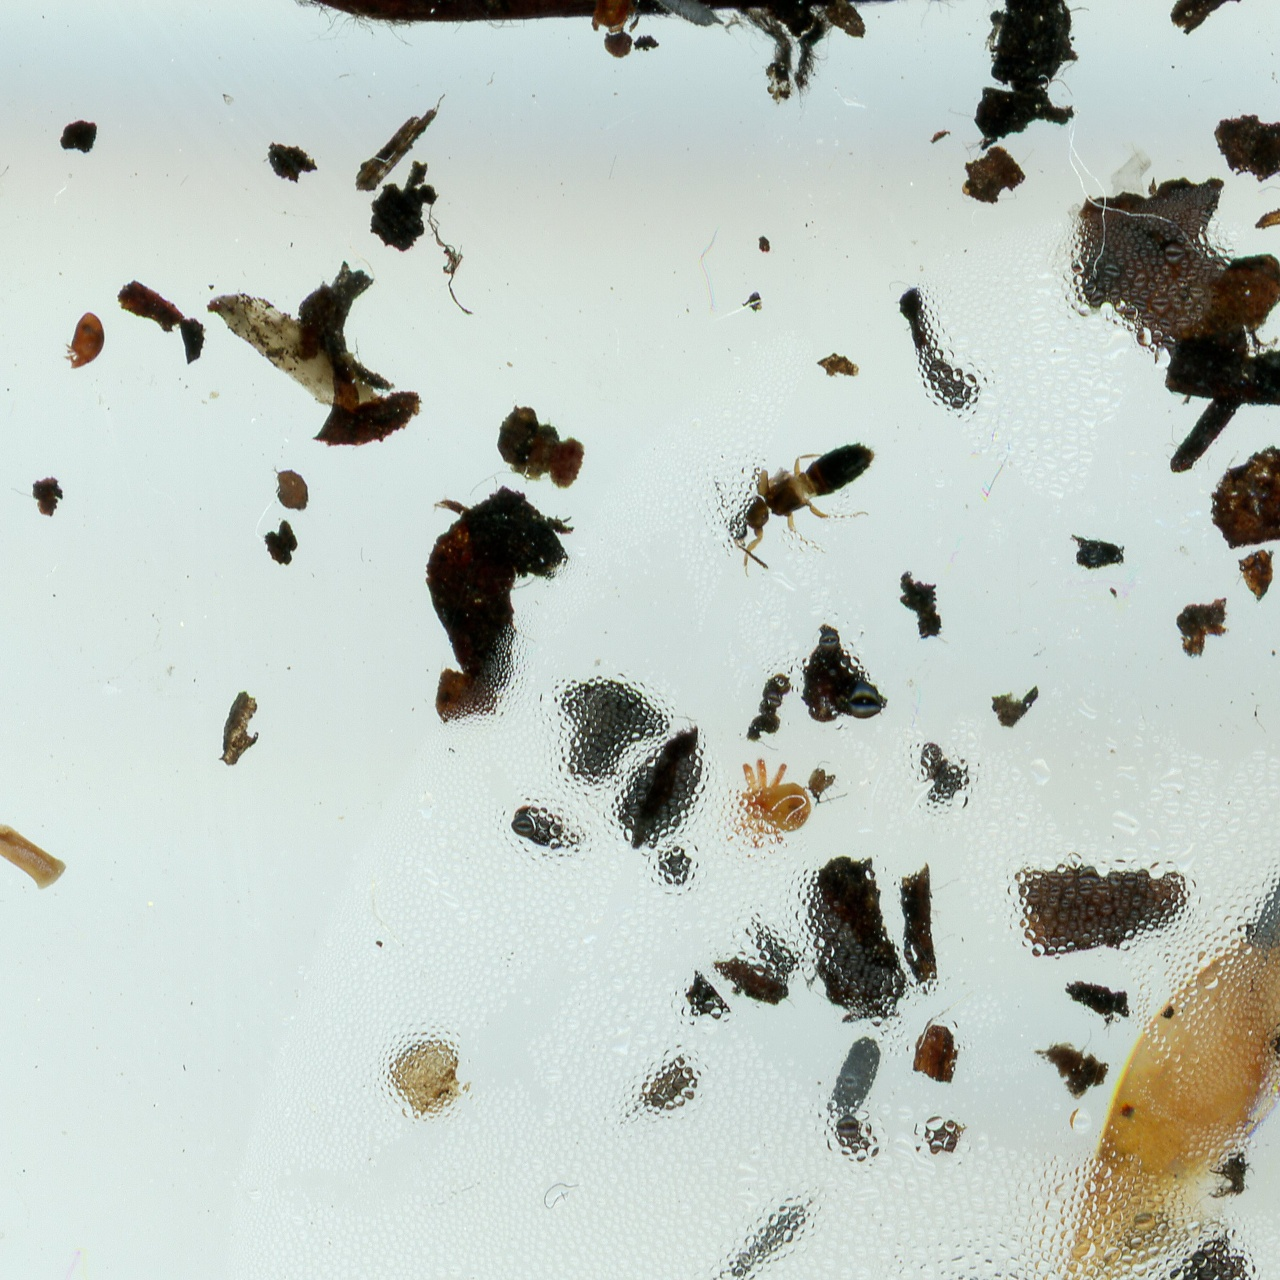arthropod: (691, 394, 915, 597), (690, 1157, 844, 1280), (716, 754, 817, 851), (384, 1028, 474, 1128), (820, 1027, 893, 1129), (1240, 861, 1280, 967), (645, 0, 731, 38), (60, 309, 107, 373), (574, 0, 635, 36)
